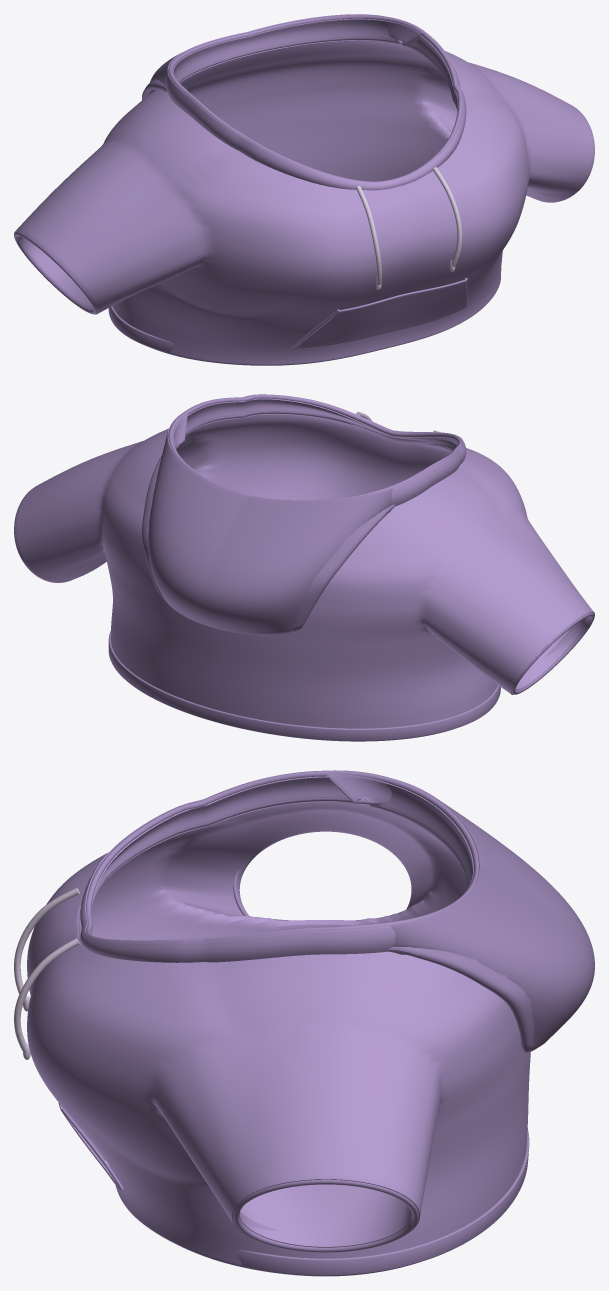
Rendered from Feminine-sweatshirt-top.glb.
3 renders of one model, top to bottom at view 1: azimuth 30°, elevation 25°; view 2: azimuth 150°, elevation 25°; view 3: azimuth 270°, elevation 25°, orthographic. The views are drawn at different scales.
Visible parts, largest first — view 1: Clothing / sweatshirt, Hoodie / attached opening, Hoodie / kangaroo pocket, Hoodie / rolled opening export, Hoodie / resting hood, Hoodie / ribbed hem, Neckline / fitted crew export, Sleeve / soft cuff -1 export, Hoodie / drawcord 1 export, Hoodie / drawcord -1 export; view 2: Clothing / sweatshirt, Hoodie / resting hood, Hoodie / ribbed hem, Hoodie / attached opening, Hoodie / rolled opening export, Sleeve / soft cuff -1 export, Neckline / fitted crew export; view 3: Clothing / sweatshirt, Hoodie / resting hood, Hoodie / attached opening, Hoodie / ribbed hem, Hoodie / rolled opening export, Sleeve / soft cuff 1 export, Neckline / fitted crew export, Hoodie / drawcord 1 export, Hoodie / drawcord -1 export.
Boxes of the visible parts, x1,y1,x2,y2 form: Clothing / sweatshirt: [14, 40, 594, 364]; Hoodie / attached opening: [165, 18, 466, 190]; Hoodie / kangaroo pocket: [294, 279, 467, 348]; Hoodie / rolled opening export: [168, 14, 462, 182]; Hoodie / resting hood: [142, 14, 421, 99]; Hoodie / ribbed hem: [108, 306, 173, 352]; Neckline / fitted crew export: [179, 37, 455, 190]; Sleeve / soft cuff -1 export: [14, 232, 96, 314]; Hoodie / drawcord 1 export: [432, 167, 462, 266]; Hoodie / drawcord -1 export: [356, 186, 381, 285]; Clothing / sweatshirt: [14, 414, 594, 728]; Hoodie / resting hood: [142, 414, 420, 635]; Hoodie / ribbed hem: [108, 631, 500, 740]; Hoodie / attached opening: [165, 394, 466, 506]; Hoodie / rolled opening export: [168, 394, 462, 500]; Sleeve / soft cuff -1 export: [511, 612, 594, 694]; Neckline / fitted crew export: [185, 411, 453, 450]; Clothing / sweatshirt: [27, 801, 530, 1268]; Hoodie / resting hood: [326, 774, 594, 1052]; Hoodie / attached opening: [80, 776, 473, 962]; Hoodie / ribbed hem: [237, 1128, 529, 1275]; Hoodie / rolled opening export: [86, 770, 478, 942]; Sleeve / soft cuff 1 export: [233, 1179, 418, 1252]; Neckline / fitted crew export: [78, 798, 467, 941]; Hoodie / drawcord 1 export: [14, 938, 79, 1052]; Hoodie / drawcord -1 export: [14, 888, 79, 1002].
Bounding box in the file's own units: 0.9663 × 0.3939 × 0.6652.
